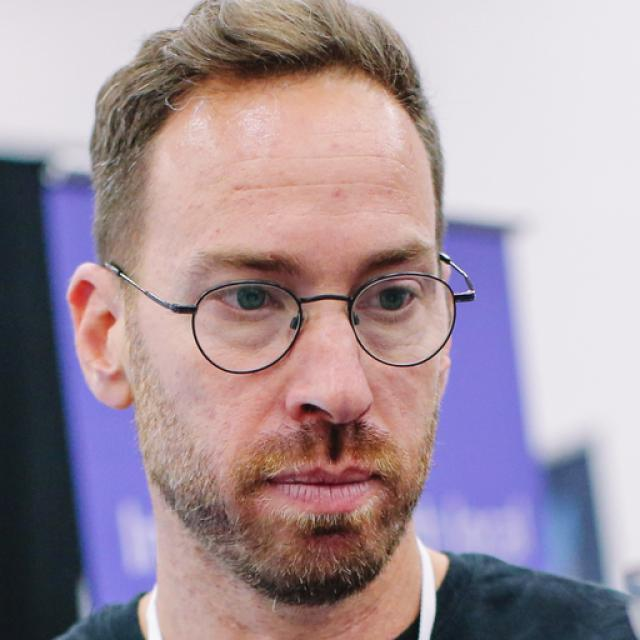neutral: (132, 68, 456, 602)
